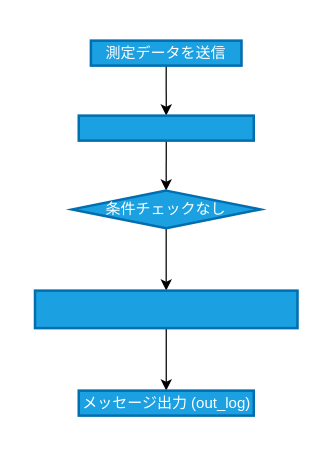
The diagram is 329 pixels wide and 455 high, and some of its shapes have lost their labels. The shapes that lost their labels are listed below. From the top down, each one's centre as x and y in pixels, then its label:
(165,127): 前処理プロセスを実行
(165,309): 入力メッセージにステータス書き込み ($.RESULT.status = 1)
